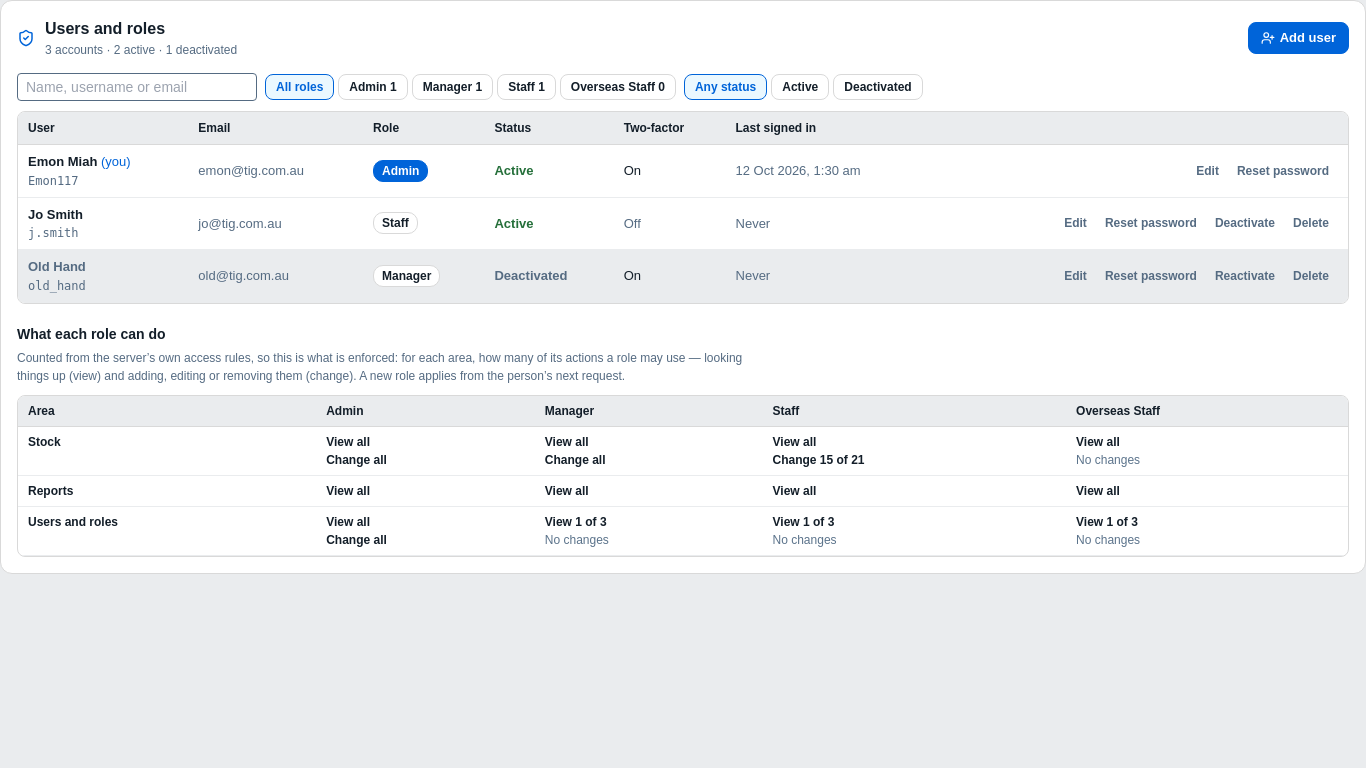
the list › is narrowed by a search, a role and a status
Expected: the text "Jo Smith" is shown, [28,206,83,222]
Type "smith" into the search field named "Find a user" at [137, 87], box [17,73,257,101]
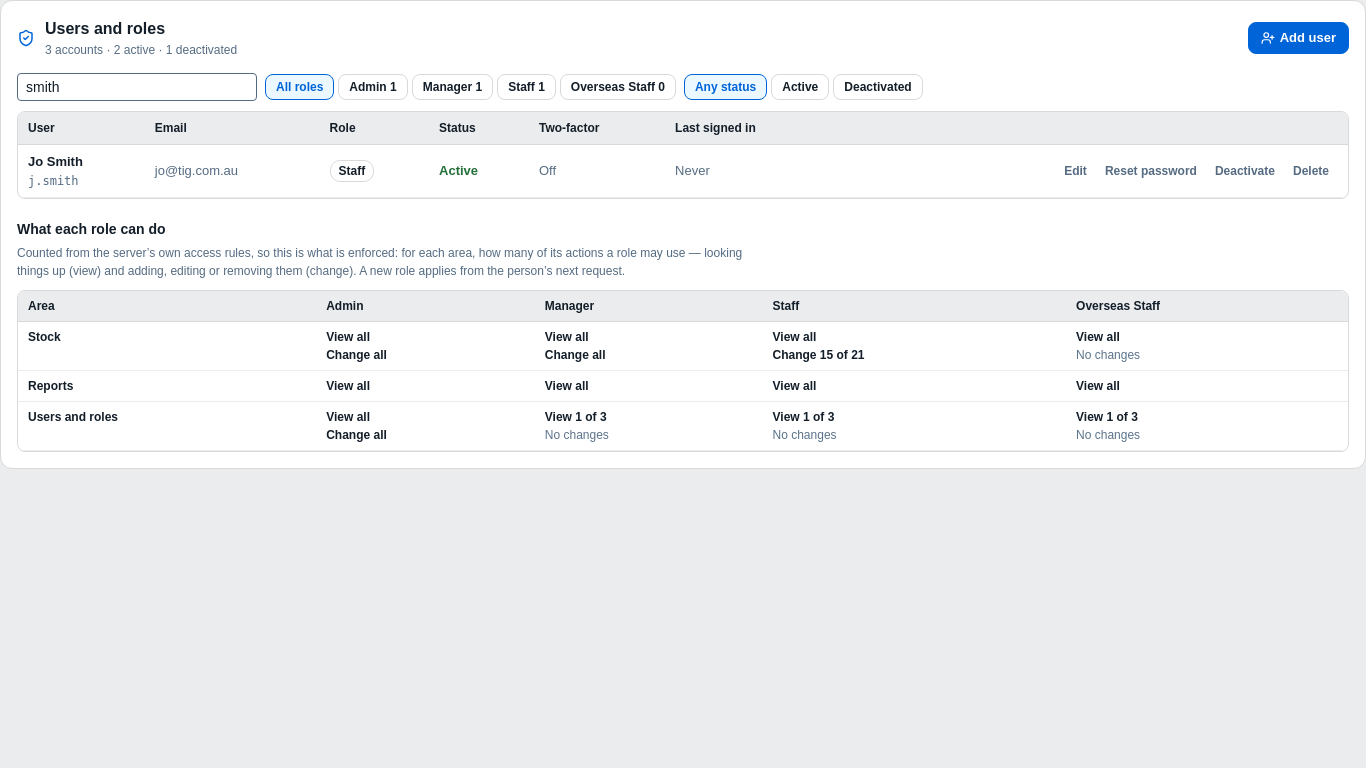
Clear the search field named "Find a user" at [137, 87], box [17,73,257,101]
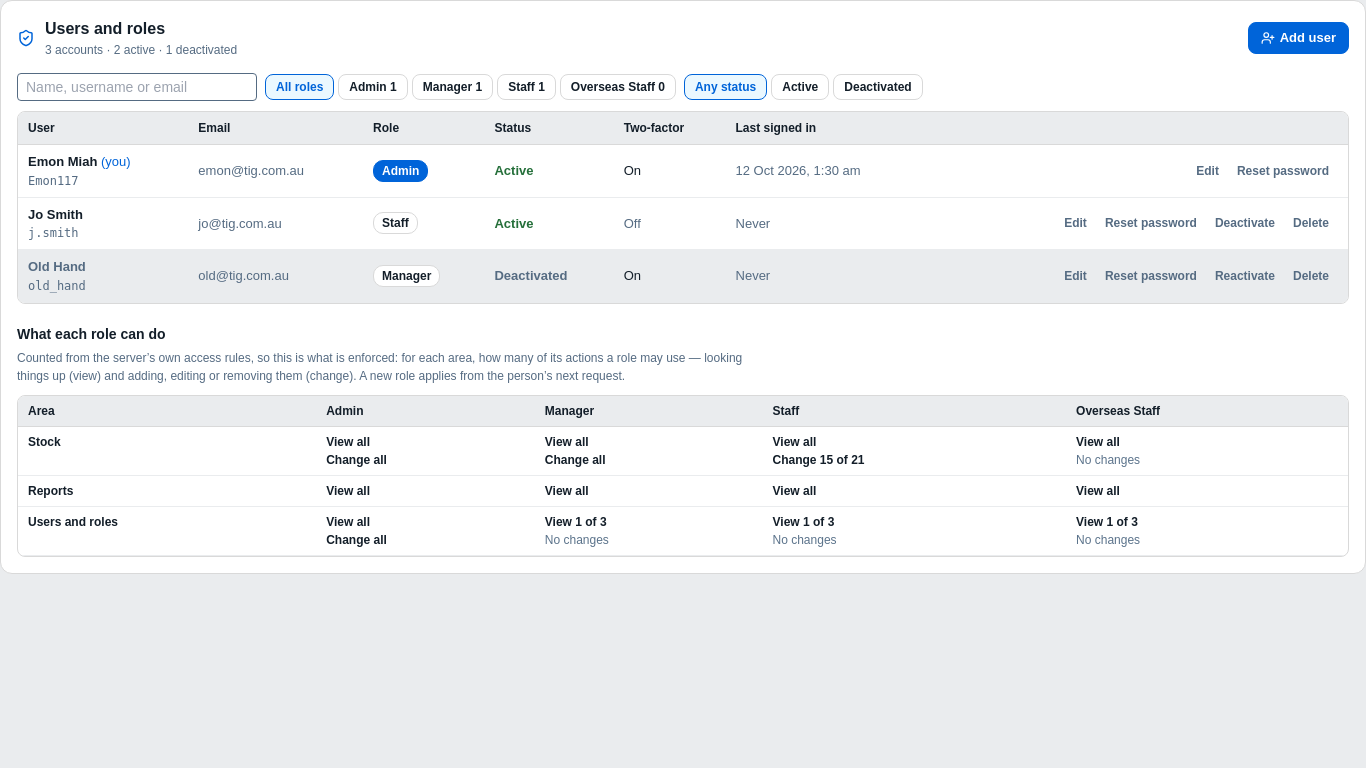
Click the button "Manager 1" at [452, 87], box [412,74,493,100]
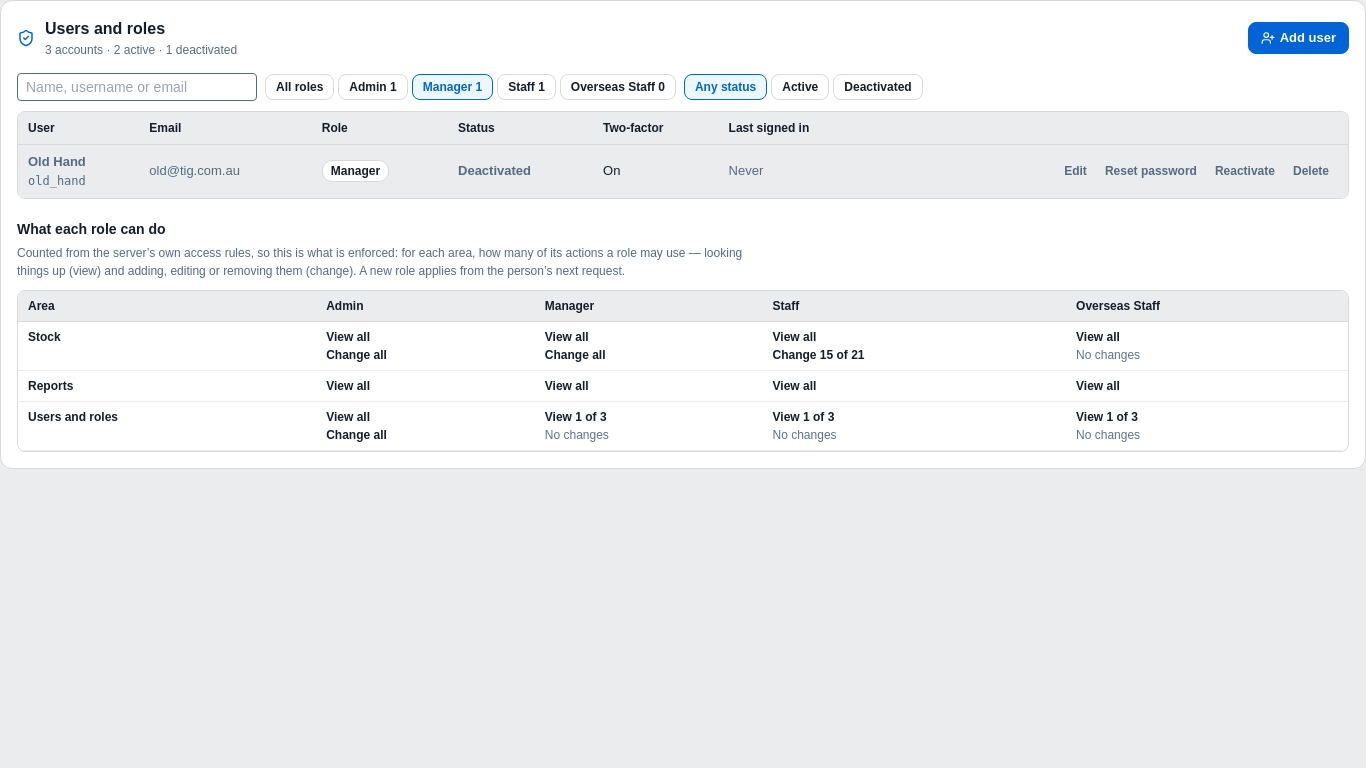
Click the button "Active" at [800, 87], box [771,74,829,100]
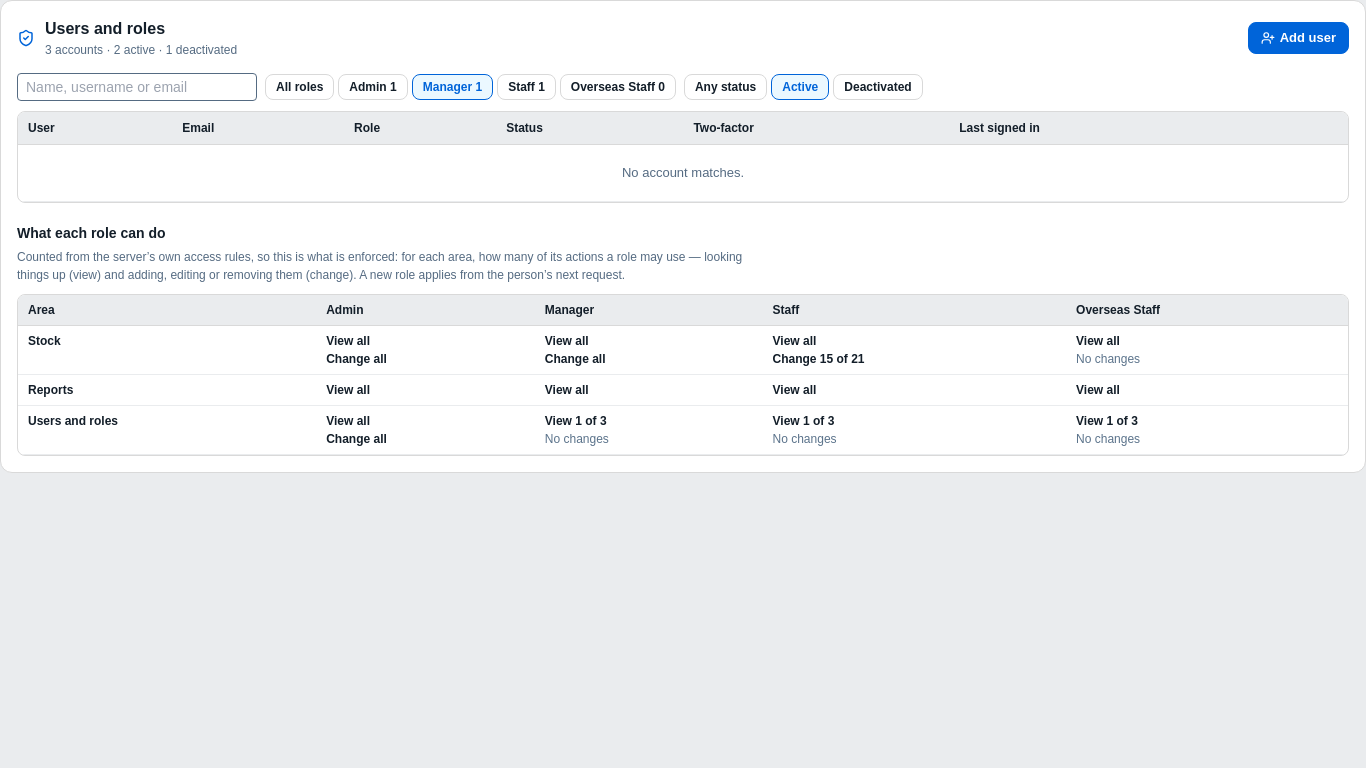
Expected: the text "No account matches." is shown, [18,144,1348,201]
